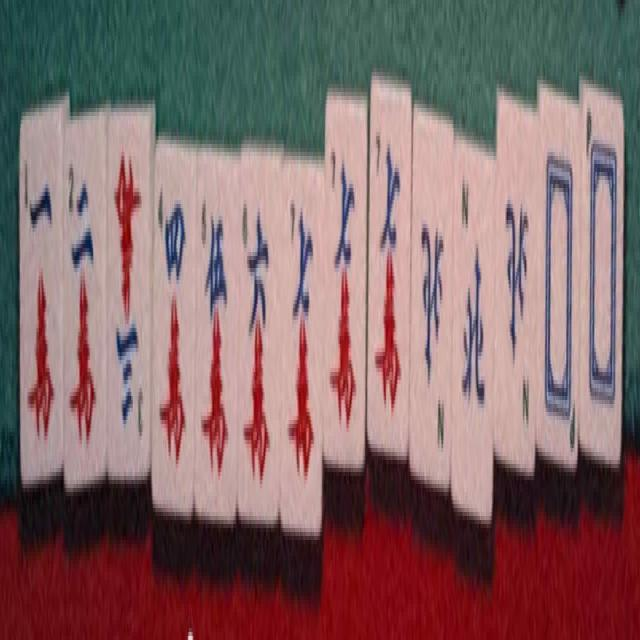bai: (579, 89, 620, 450), (538, 102, 576, 483)
m1: (19, 132, 60, 472)
m2: (62, 132, 101, 482)
m3: (106, 139, 150, 464)
m4: (153, 160, 192, 527)
m5: (195, 160, 234, 503)
m6: (236, 175, 276, 516)
m7: (278, 178, 320, 532), (324, 101, 364, 472), (372, 80, 408, 443)
north: (452, 145, 495, 509), (412, 120, 449, 476), (496, 123, 534, 468)
